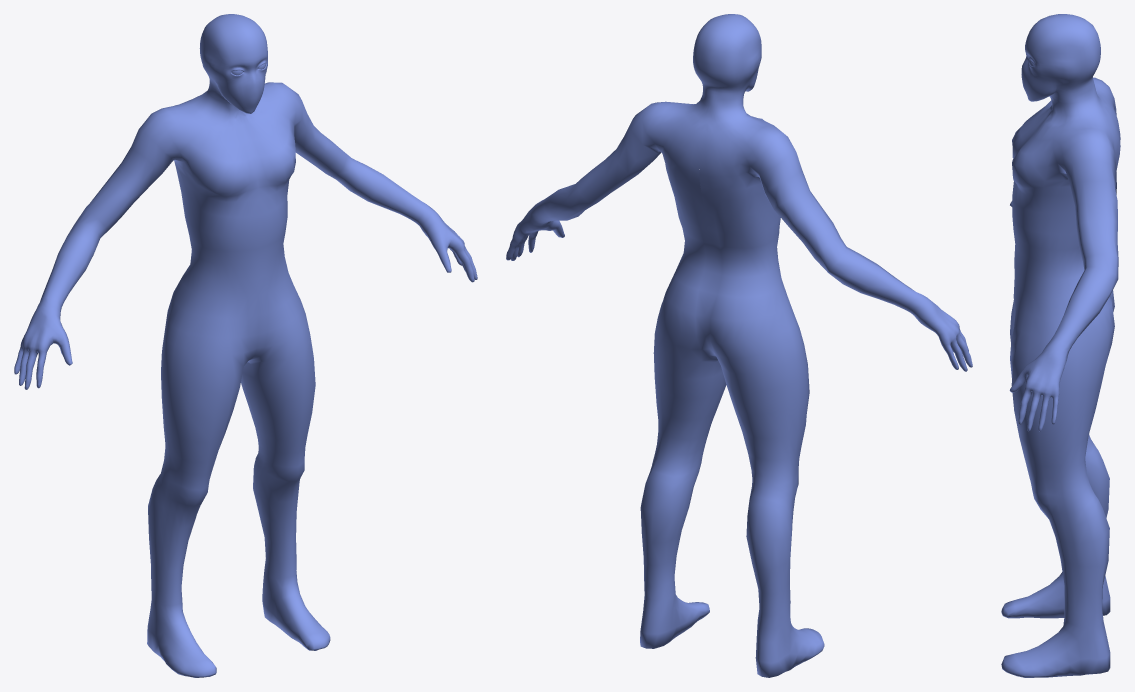
The model's file is base_mesh_femalemale_morph_target.glb.
The picture shows the model from 3 angles, left to right: view 1: azimuth 30°, elevation 25°; view 2: azimuth 150°, elevation 25°; view 3: azimuth 270°, elevation 25°; orthographic projection.
Parts seen in each view (by area): view 1: Topo_0; view 2: Topo_0; view 3: Topo_0.
Part boxes in pixels (x1,y1,x2,y2): Topo_0: (14,14,477,677); Topo_0: (506,14,972,677); Topo_0: (1001,14,1120,677).
Bounding box in the file's own units: 1.38 × 1.82 × 0.3143.
